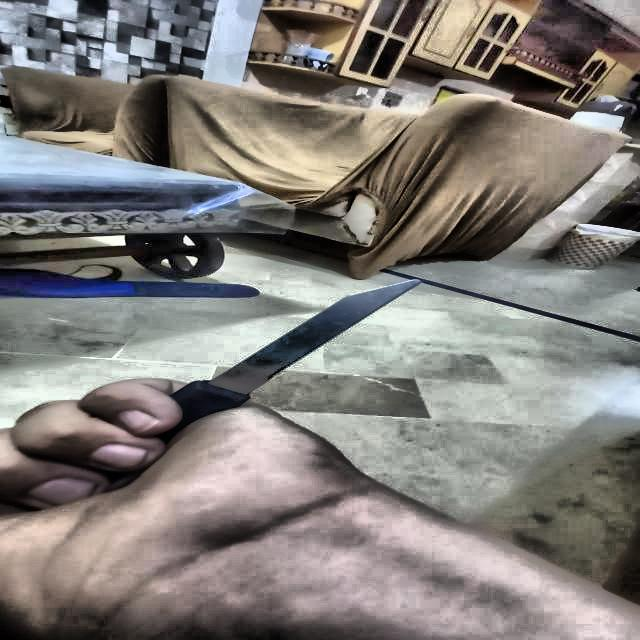knife: (172, 280, 422, 422)
